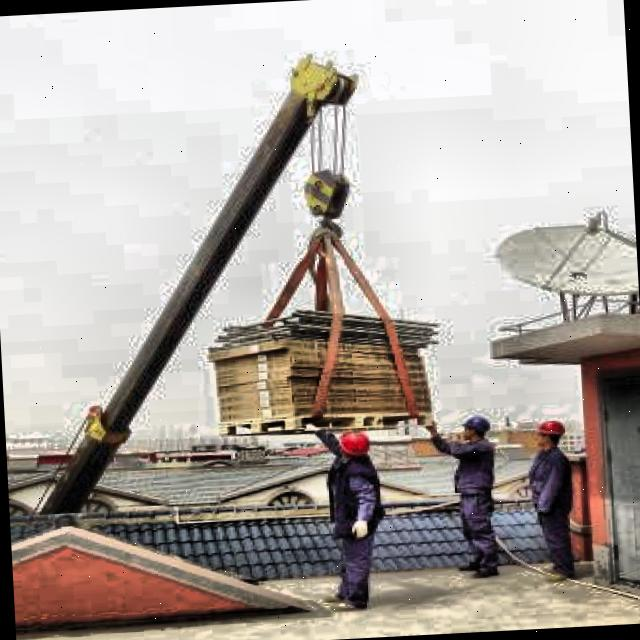helmet: (534, 415, 570, 453), (334, 426, 372, 462), (458, 411, 493, 444)
